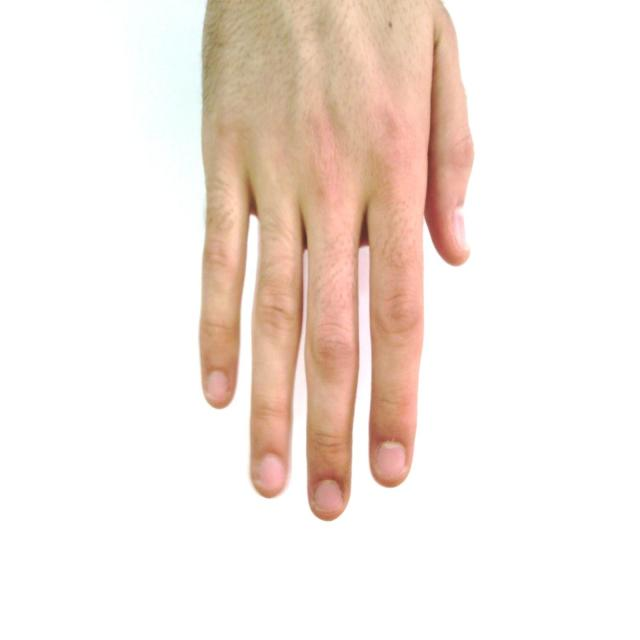others: (174, 1, 484, 522)
